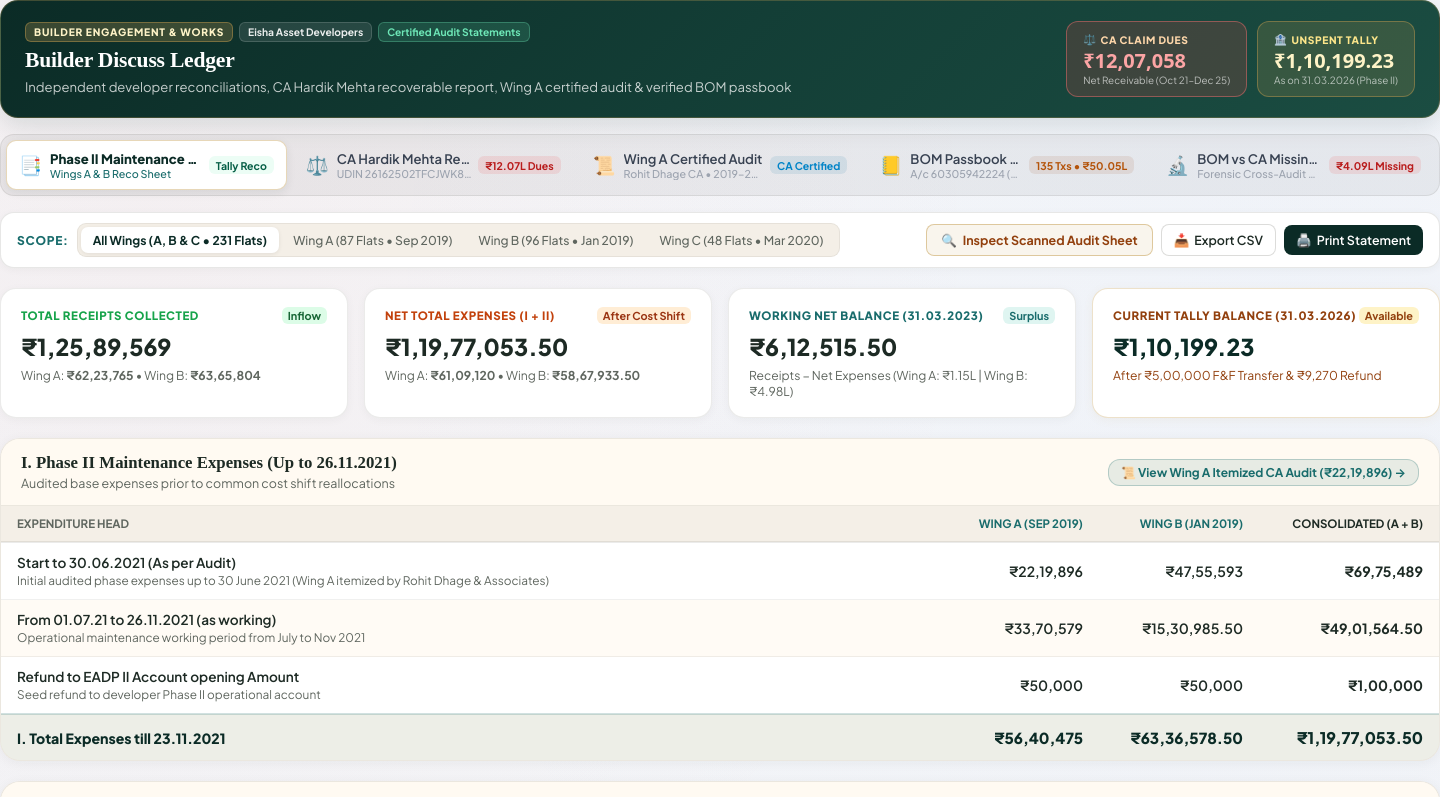
Test: BuilderDiscuss Component - Design & Features › opens scanned audit document modal when inspect button is clicked
Click the button "🔍 Inspect Scanned Audit Sheet".
click(1040, 240)  # box [926,224,1153,256]
(page scrolled)
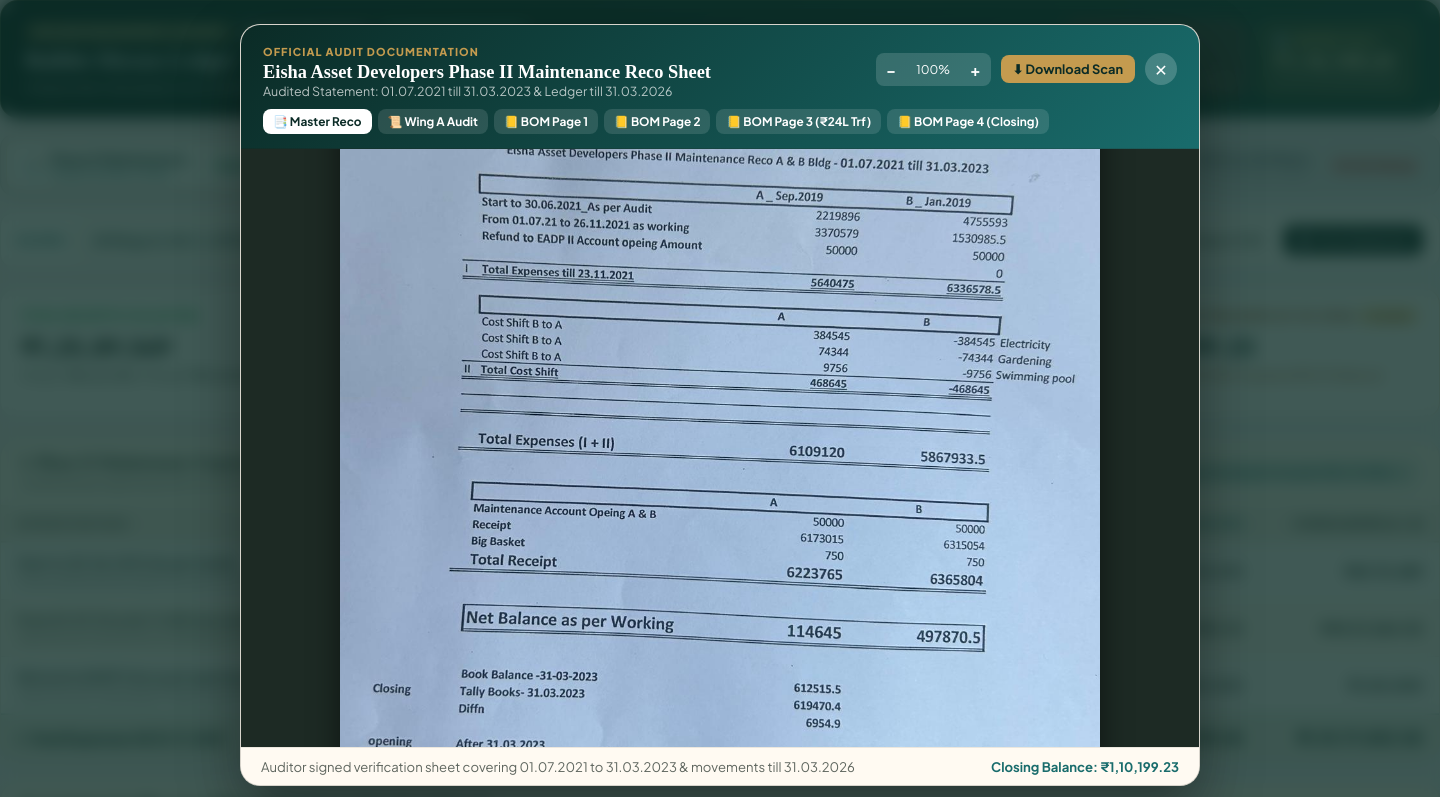
Result: the text "OFFICIAL AUDIT DOCUMENTATION" is shown at [263,45,479,58]
Result: the picture named "Eisha Asset Developers Phase II Maintenance Reco" is shown at [340,149,1100,747]
